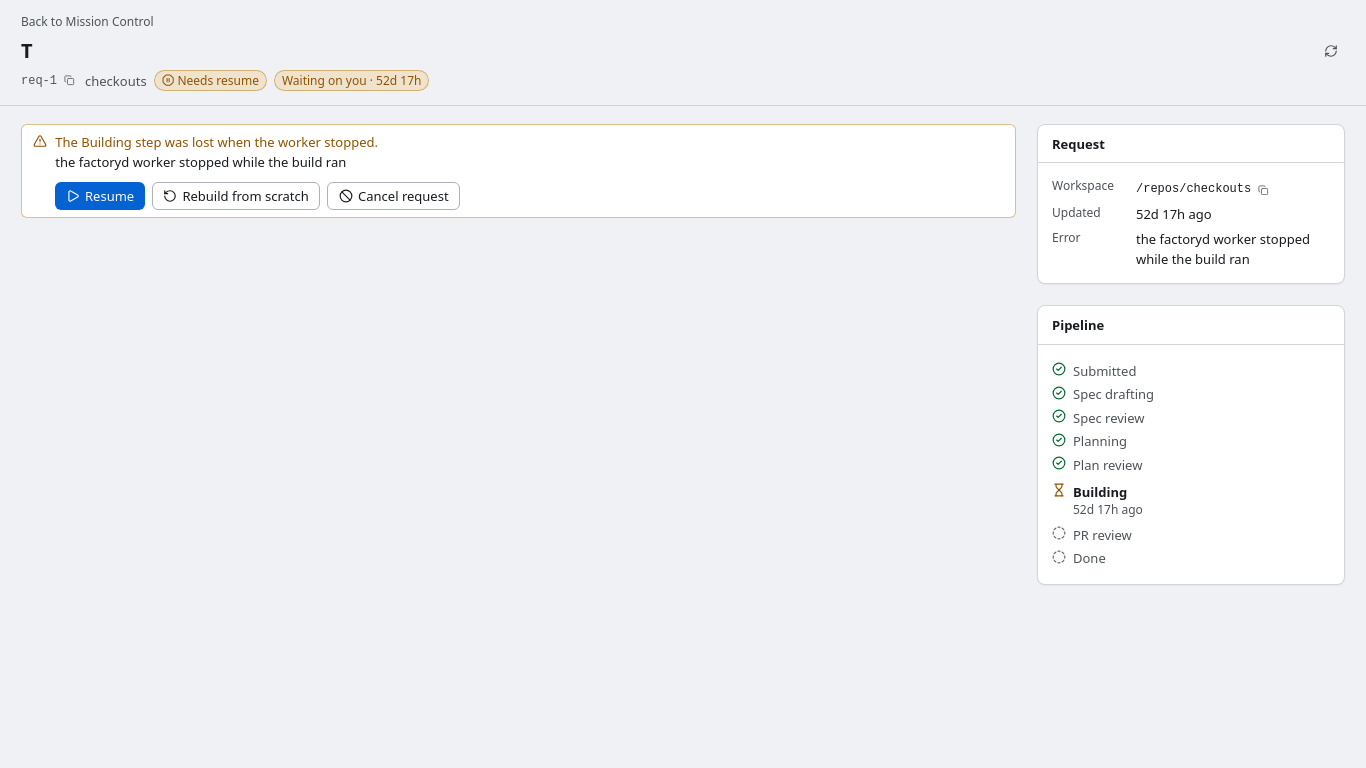
Test: resume_review › Resume posts from=Resume after confirmation
Click the button "Resume".
click(100, 196)  # box [55,182,145,210]
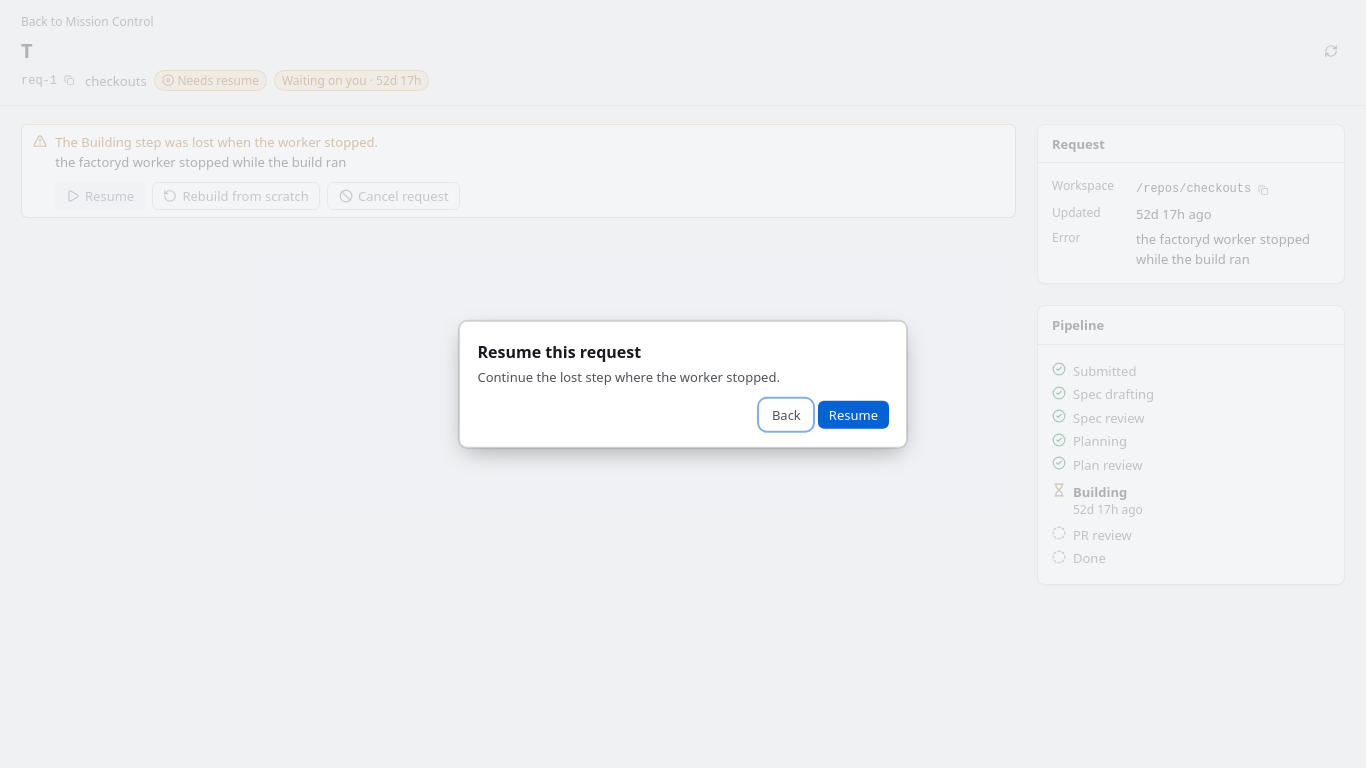
Click the button "Resume".
click(853, 415)  # box [818,401,888,429]
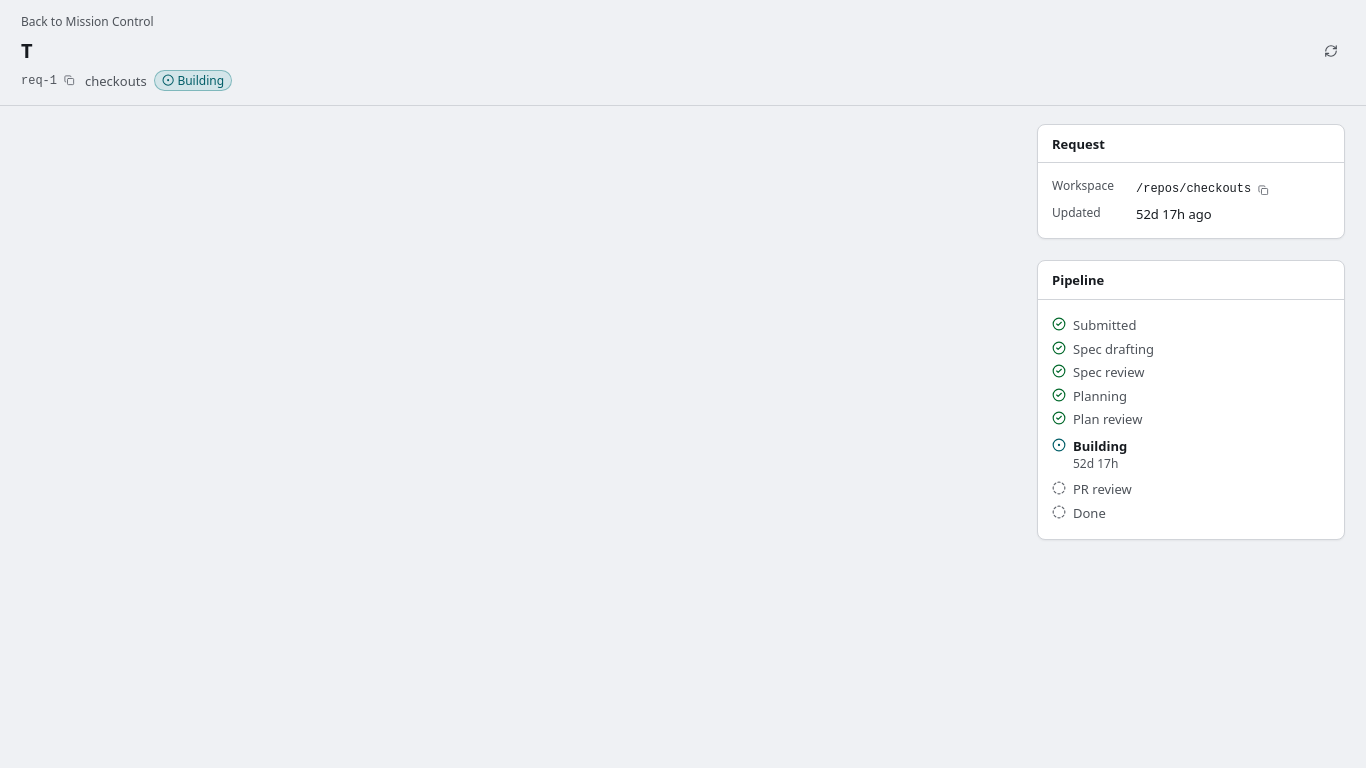
Now the message with test id "resume-callout" is gone
